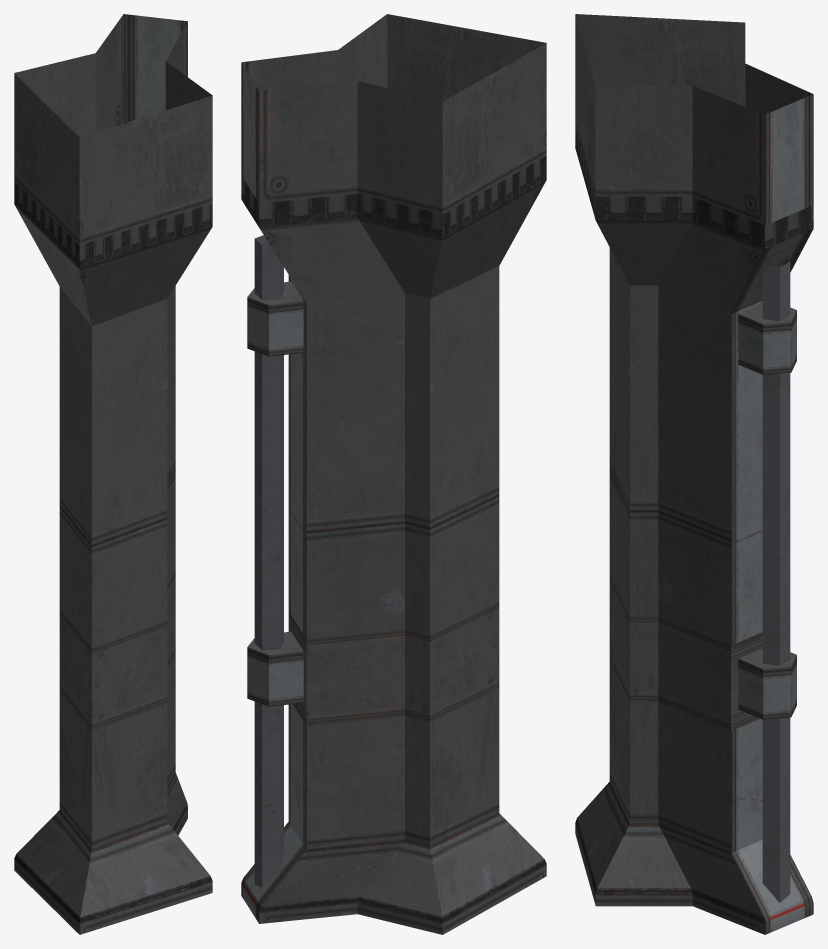
File: ARC0910089.fbx
3 views of the same model, side by side, from view 1: azimuth 30°, elevation 25°; view 2: azimuth 150°, elevation 25°; view 3: azimuth 270°, elevation 25° (orthographic). The views are drawn at different scales.
Parts seen in each view (by area): view 1: smARC0910089; view 2: smARC0910089; view 3: smARC0910089.
Boxes of the visible parts, left/top/right/bottom form: smARC0910089: left=14, top=14, right=212, bottom=934; smARC0910089: left=241, top=14, right=546, bottom=934; smARC0910089: left=575, top=14, right=813, bottom=934.
Size of the model in its own units: 73.92 by 281 by 73.92.
Materials: 1 (1 with a texture image).
